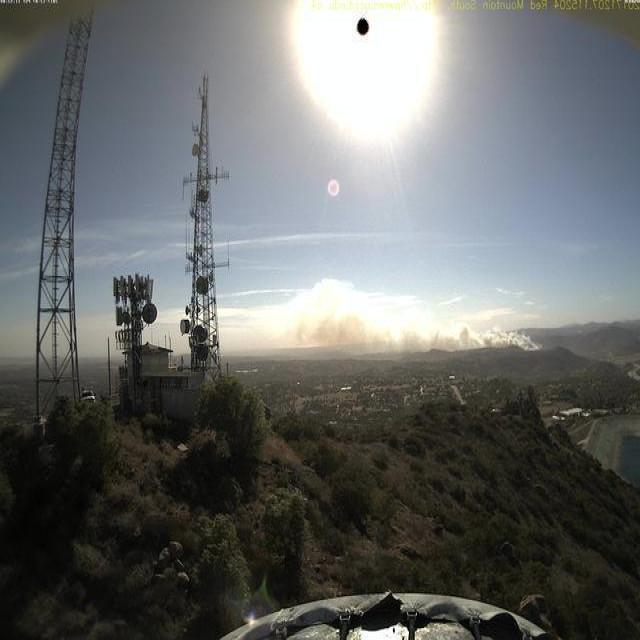Smoke: (228, 273, 543, 360)
